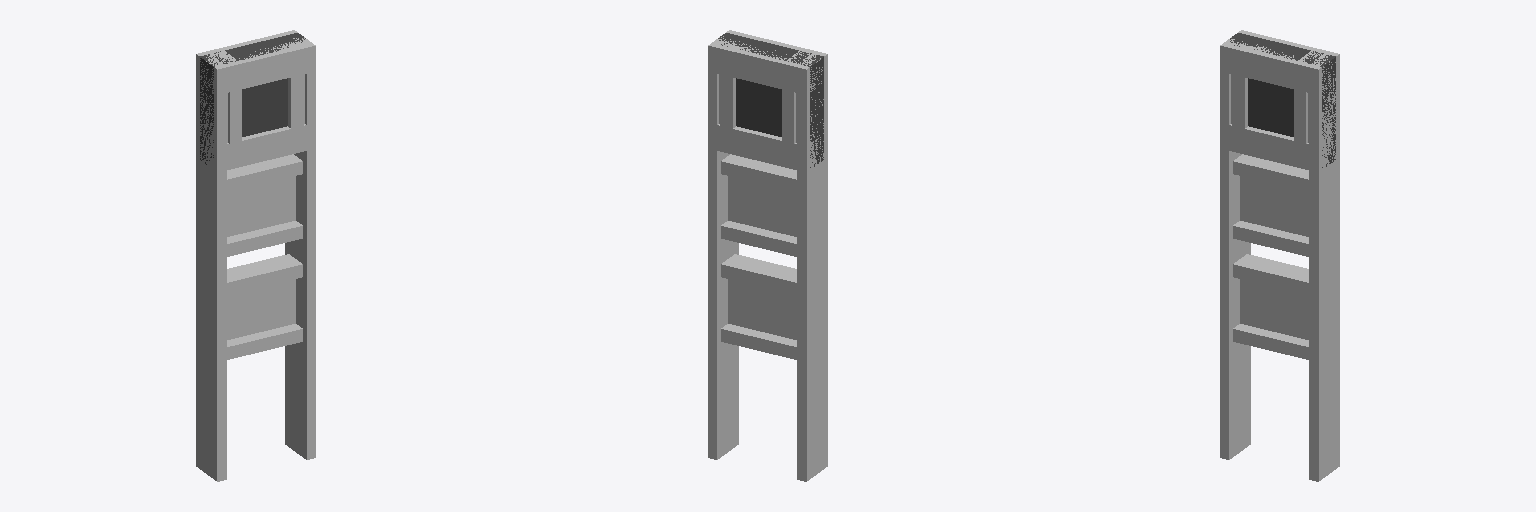
3 views of the same model, side by side, from view 1: azimuth 30°, elevation 25°; view 2: azimuth 150°, elevation 25°; view 3: azimuth 330°, elevation 25° (orthographic).
Visible parts, largest first — view 1: lb, rb, b, l, r, lt, center, rt, t; view 2: lb, rb, b, l, r, center, t, lt, rt; view 3: rb, lb, b, r, l, lt, center, t, rt.
Part boxes in pixels (left/top/right/bottom): lb: left=196, top=56, right=309, bottom=481; rb: left=208, top=30, right=315, bottom=459; b: left=196, top=59, right=315, bottom=361; l: left=196, top=33, right=302, bottom=171; r: left=200, top=30, right=315, bottom=160; lt: left=210, top=31, right=315, bottom=167; center: left=200, top=33, right=305, bottom=164; rt: left=196, top=51, right=303, bottom=153; t: left=196, top=30, right=315, bottom=135; lb: left=717, top=56, right=827, bottom=481; rb: left=708, top=31, right=818, bottom=459; b: left=709, top=62, right=827, bottom=362; l: left=719, top=33, right=827, bottom=172; r: left=708, top=40, right=823, bottom=160; center: left=718, top=33, right=823, bottom=167; t: left=708, top=30, right=827, bottom=151; lt: left=708, top=31, right=811, bottom=167; rt: left=720, top=50, right=827, bottom=160; rb: left=1220, top=33, right=1339, bottom=481; lb: left=1220, top=47, right=1318, bottom=459; b: left=1227, top=59, right=1339, bottom=362; r: left=1230, top=33, right=1339, bottom=171; l: left=1220, top=31, right=1335, bottom=154; lt: left=1232, top=49, right=1339, bottom=154; center: left=1230, top=33, right=1335, bottom=167; t: left=1221, top=30, right=1337, bottom=128; rt: left=1220, top=31, right=1325, bottom=168.
Bounding box in the file's own units: 0.5 × 2 × 0.1875.
Materials: 2 (1 with a texture image).